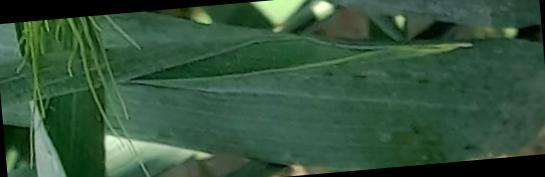Potato: (127, 56, 427, 161)
